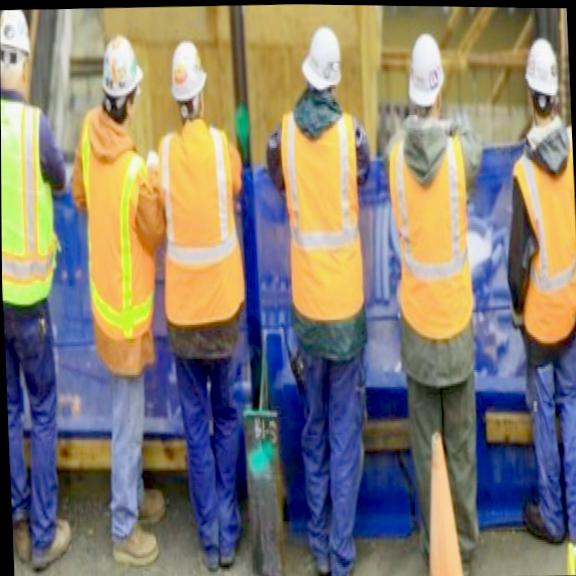safety_vest: (65, 95, 169, 381), (153, 117, 247, 326), (386, 123, 475, 342), (279, 100, 366, 321), (507, 116, 576, 355), (1, 91, 58, 305)
